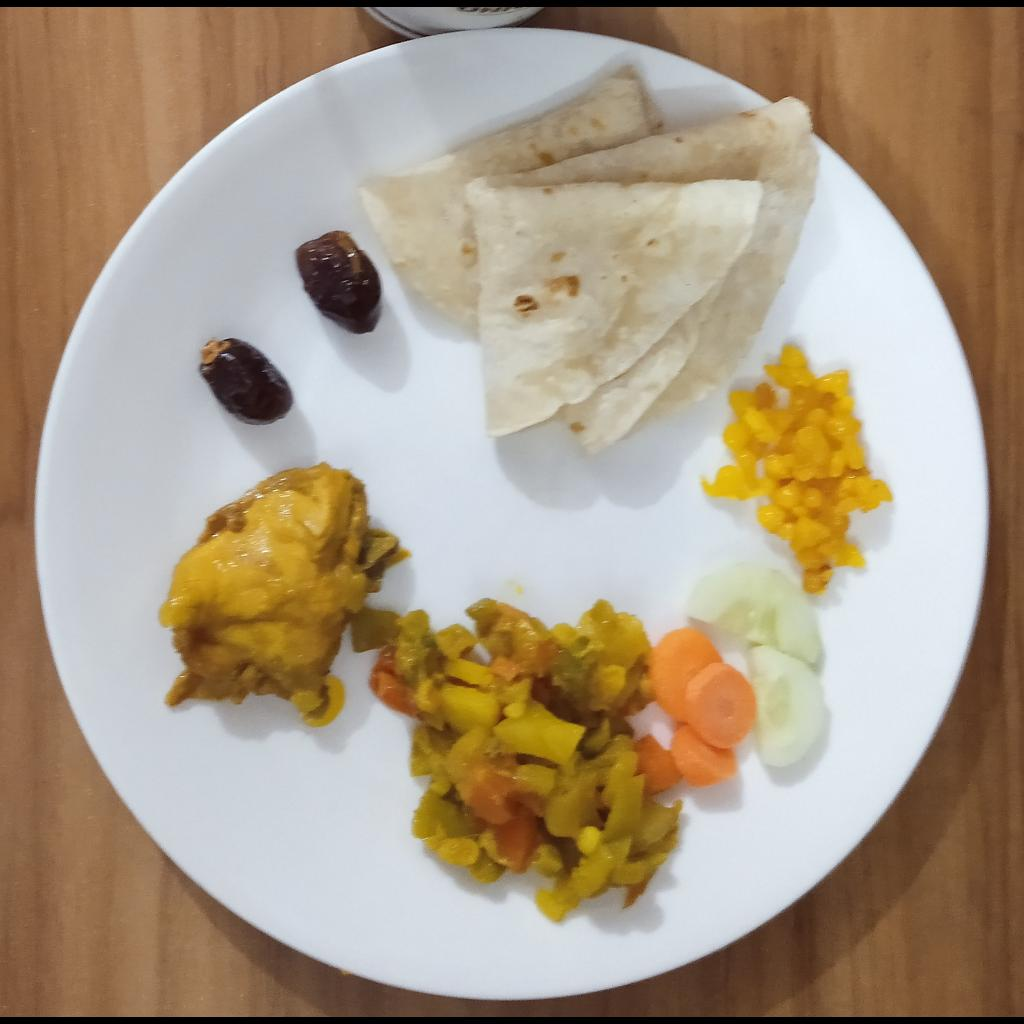burinda: (701, 347, 895, 594)
carrot: (636, 625, 756, 795)
chicken: (157, 469, 413, 714)
cucumber: (688, 563, 823, 769)
dates: (295, 230, 383, 334), (197, 337, 293, 425)
ruti: (361, 63, 822, 455)
vegetable: (355, 596, 685, 926)
